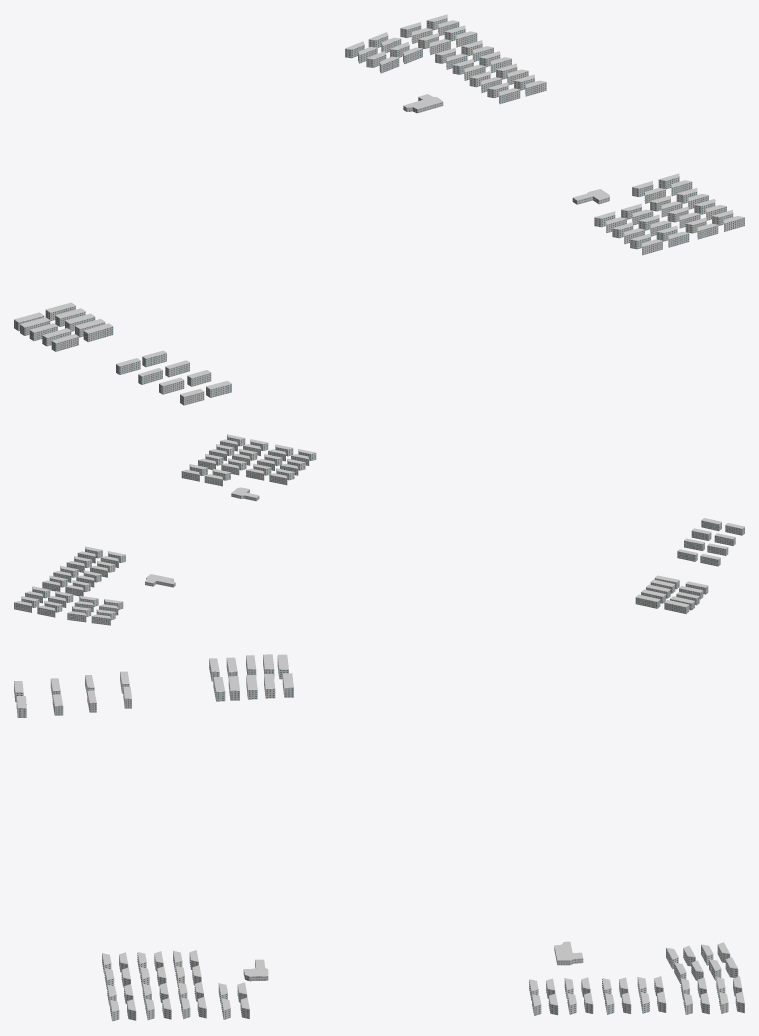
Rendered from seu_dorm_reuse_v03.glb.
3 renders of one model, top to bottom at view 1: azimuth 30°, elevation 25°; view 2: azimuth 150°, elevation 25°; view 3: azimuth 270°, elevation 25°, orthographic. The views are drawn at different scales.
Bounding box in the file's own units: 1533 × 20 × 1325.
